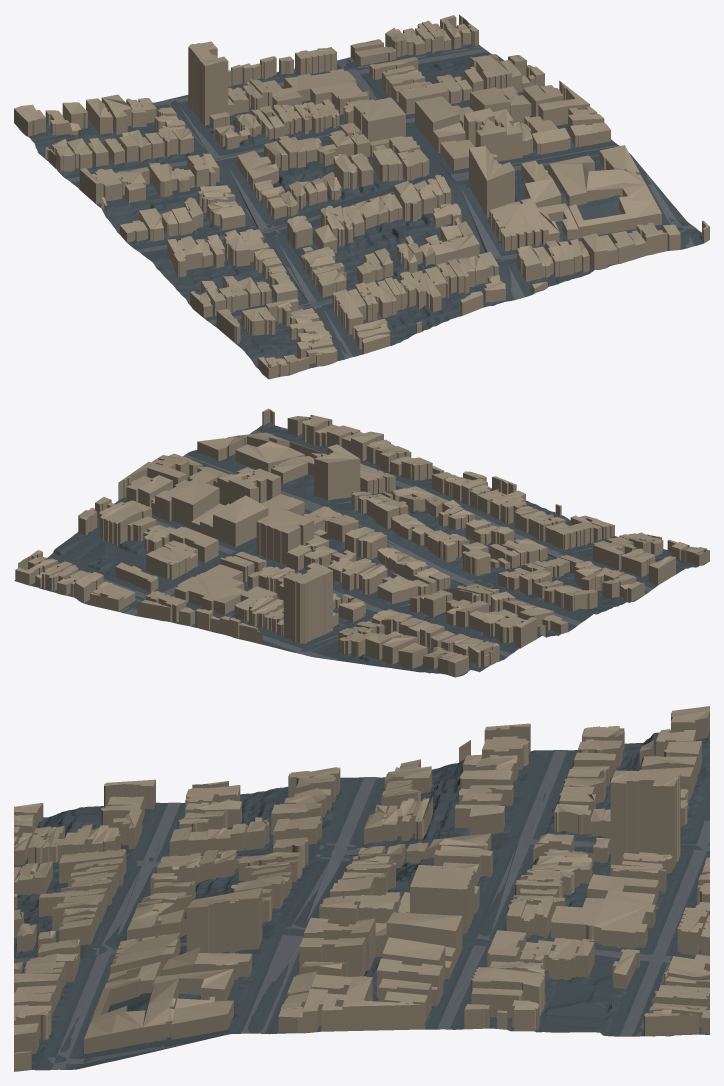
File: epsg26910-1431-10893.lod0.glb
3 renders of one model, top to bottom at view 1: azimuth 30°, elevation 25°; view 2: azimuth 150°, elevation 25°; view 3: azimuth 270°, elevation 25°, orthographic. The views are drawn at different scales.
Parts seen in each view (by area): view 1: epsg26910-1431-10893-lod0; view 2: epsg26910-1431-10893-lod0; view 3: epsg26910-1431-10893-lod0.
Boxes of the visible parts, left/top/right/bottom form: epsg26910-1431-10893-lod0: left=14, top=14, right=709, bottom=379; epsg26910-1431-10893-lod0: left=14, top=408, right=709, bottom=677; epsg26910-1431-10893-lod0: left=14, top=706, right=709, bottom=1071.
Bounding box in the file's own units: 384 × 97.41 × 384.
